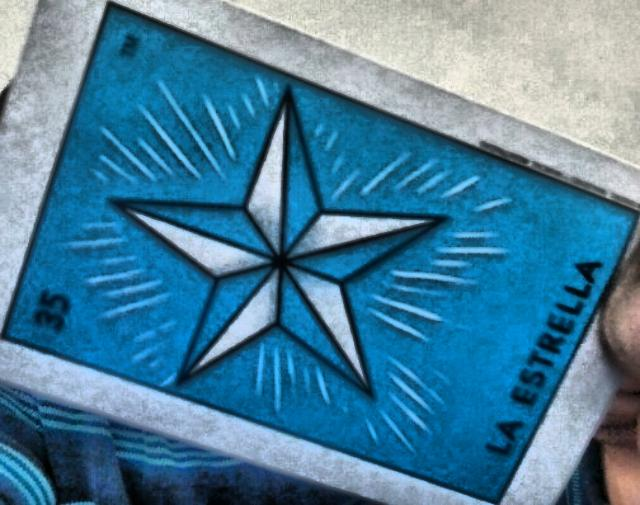La Estrella: (2, 0, 639, 504)
